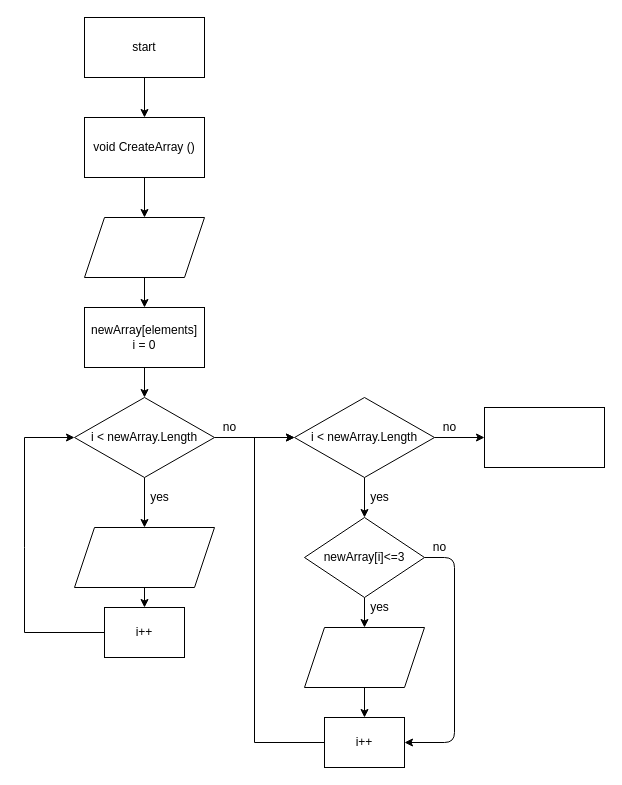
Some shapes in this 622 by 785 pixel diagram are drawn without their labels. The shapes that lost their labels are listed below. From the top down, each one's centre as x and y in pixels, then its label:
the point at 144,247: input elements
the point at 544,437: finish
the point at 144,557: input content for each element
the point at 364,657: print newArray[ i ]
